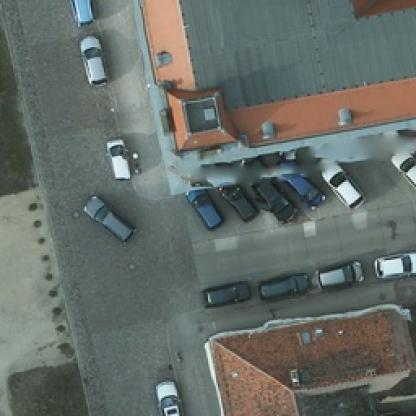car: (82, 193, 134, 239), (316, 156, 362, 206), (254, 266, 310, 298), (314, 254, 364, 289), (78, 32, 107, 90), (218, 178, 258, 220), (252, 182, 296, 218), (182, 186, 219, 228), (196, 278, 252, 304), (104, 132, 133, 182), (153, 378, 182, 414), (384, 152, 413, 188), (286, 176, 320, 206), (374, 249, 414, 274), (63, 0, 96, 21)
